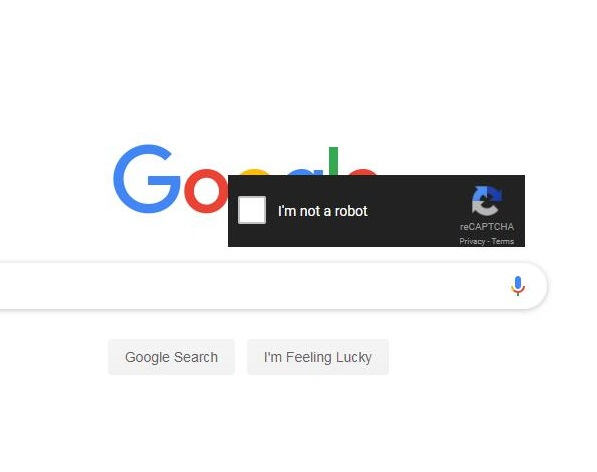captcha: (238, 196, 371, 224)
